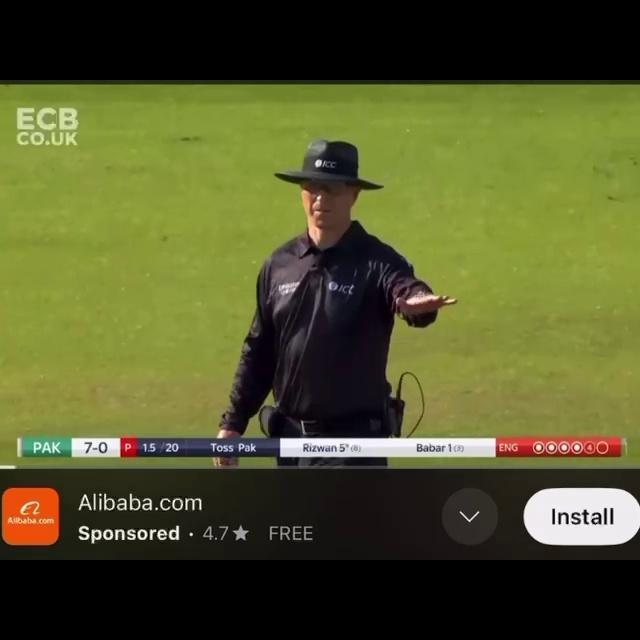umpire: (190, 118, 457, 434)
